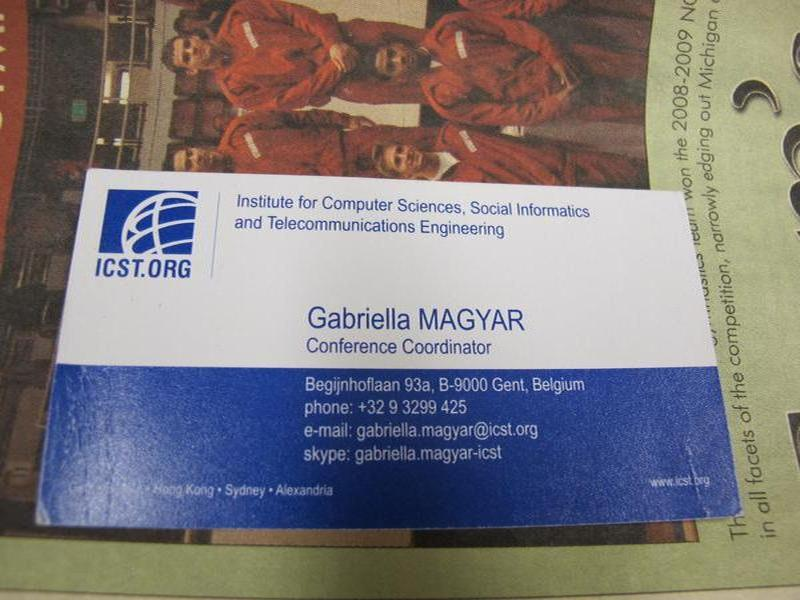card: (43, 166, 745, 528)
